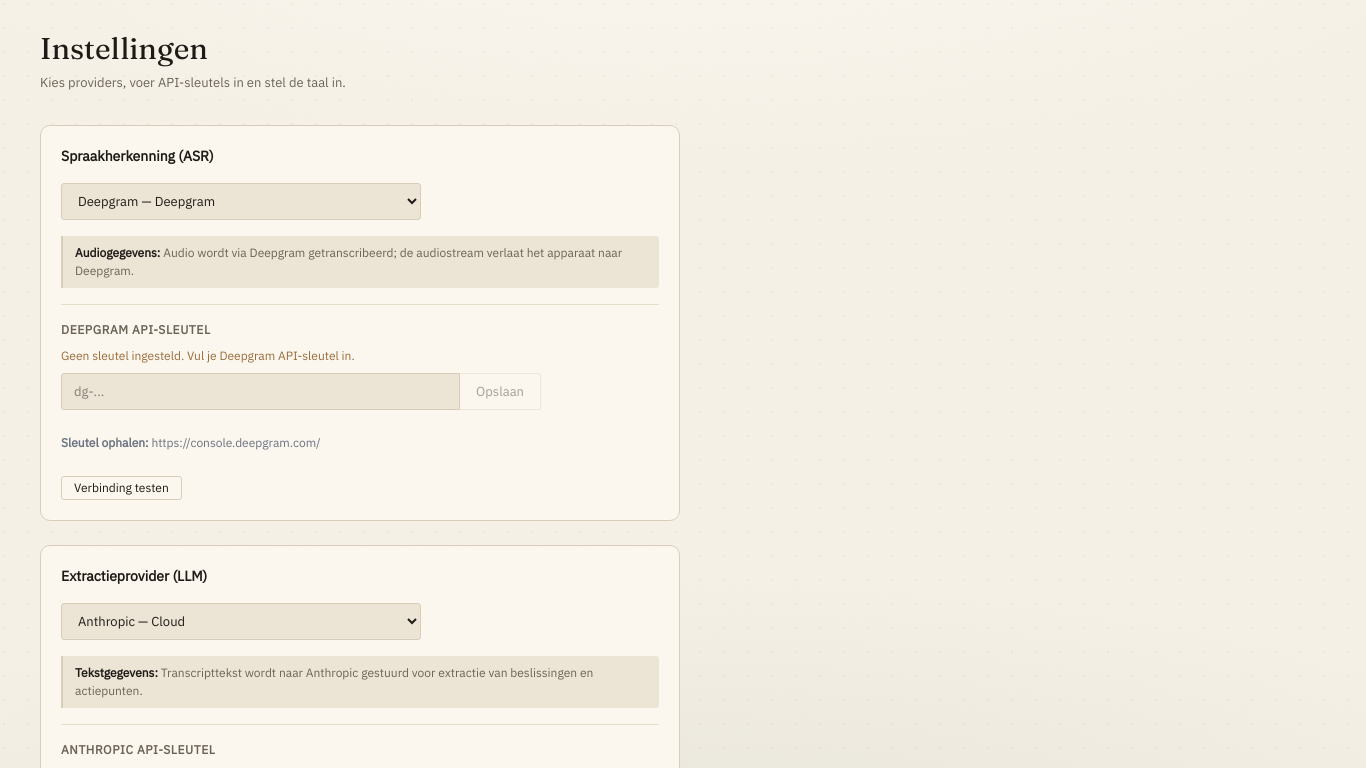
Test case: SettingsScreen — extraction provider presets (Phase 1.2) › prefills baseUrl and model when Mistral is selected
Select "Mistral — Cloud" in the dropdown with test id "extraction-provider-select" at (241, 622), box [61,603,421,640]
(page scrolled)
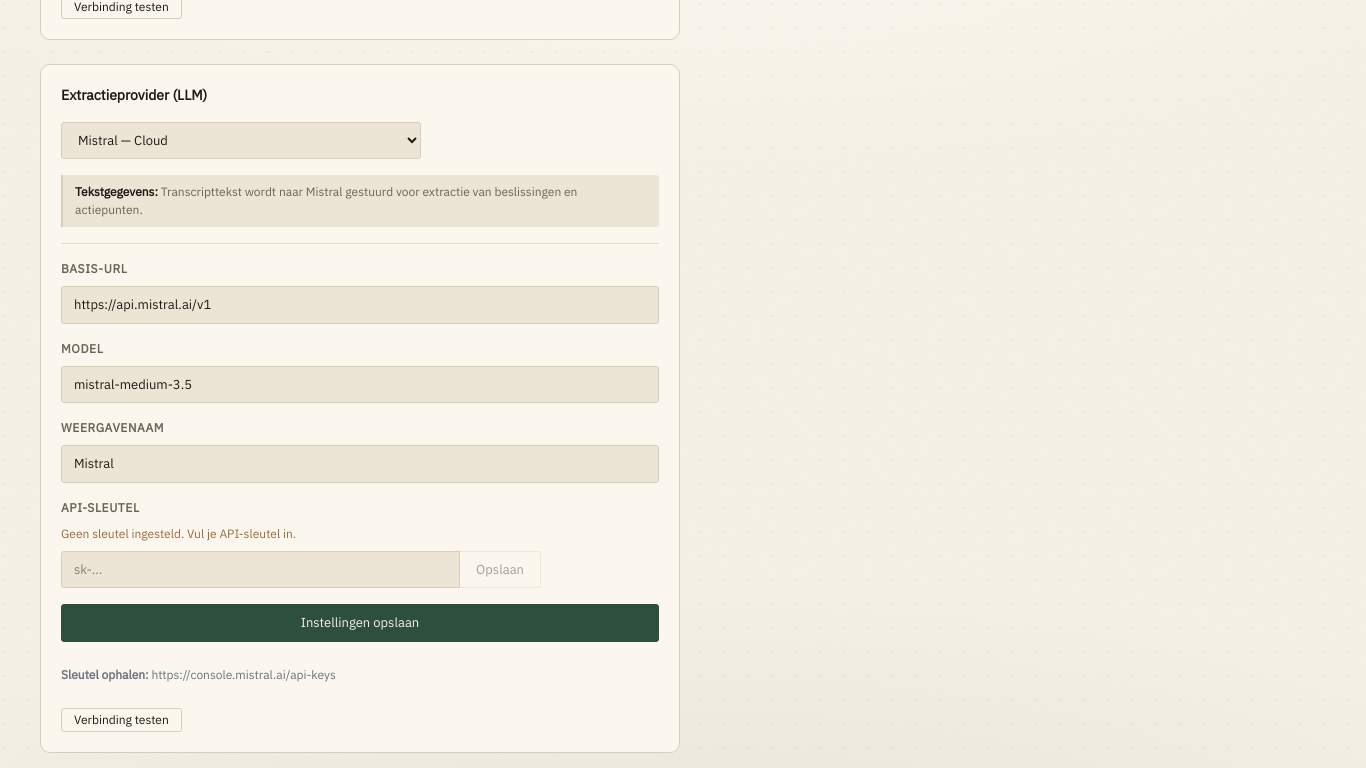
Expected: the field with test id "custom-openai-base-url" holds "https://api.mistral.ai/v1", [61,286,659,324]
Expected: the field with test id "custom-openai-model" holds "mistral-medium-3.5", [61,366,659,403]
